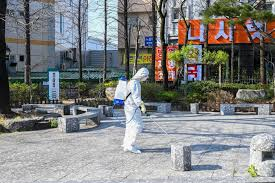mask: (137, 67, 148, 82)
